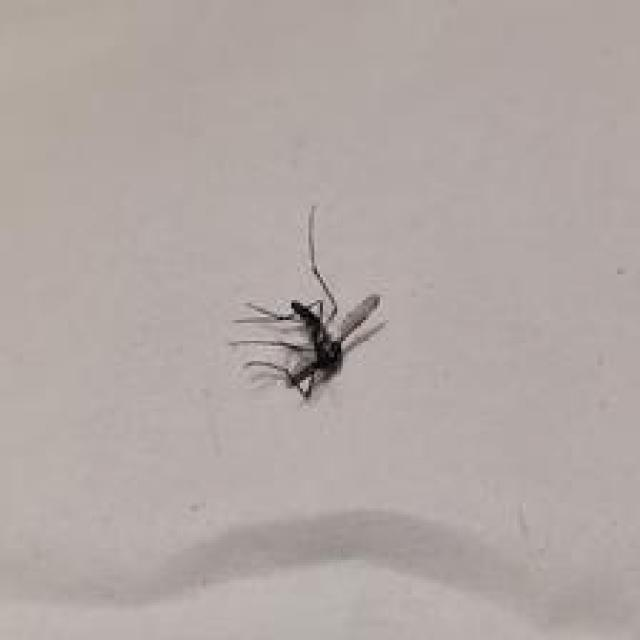Aedes albopictus: (228, 205, 388, 402)
